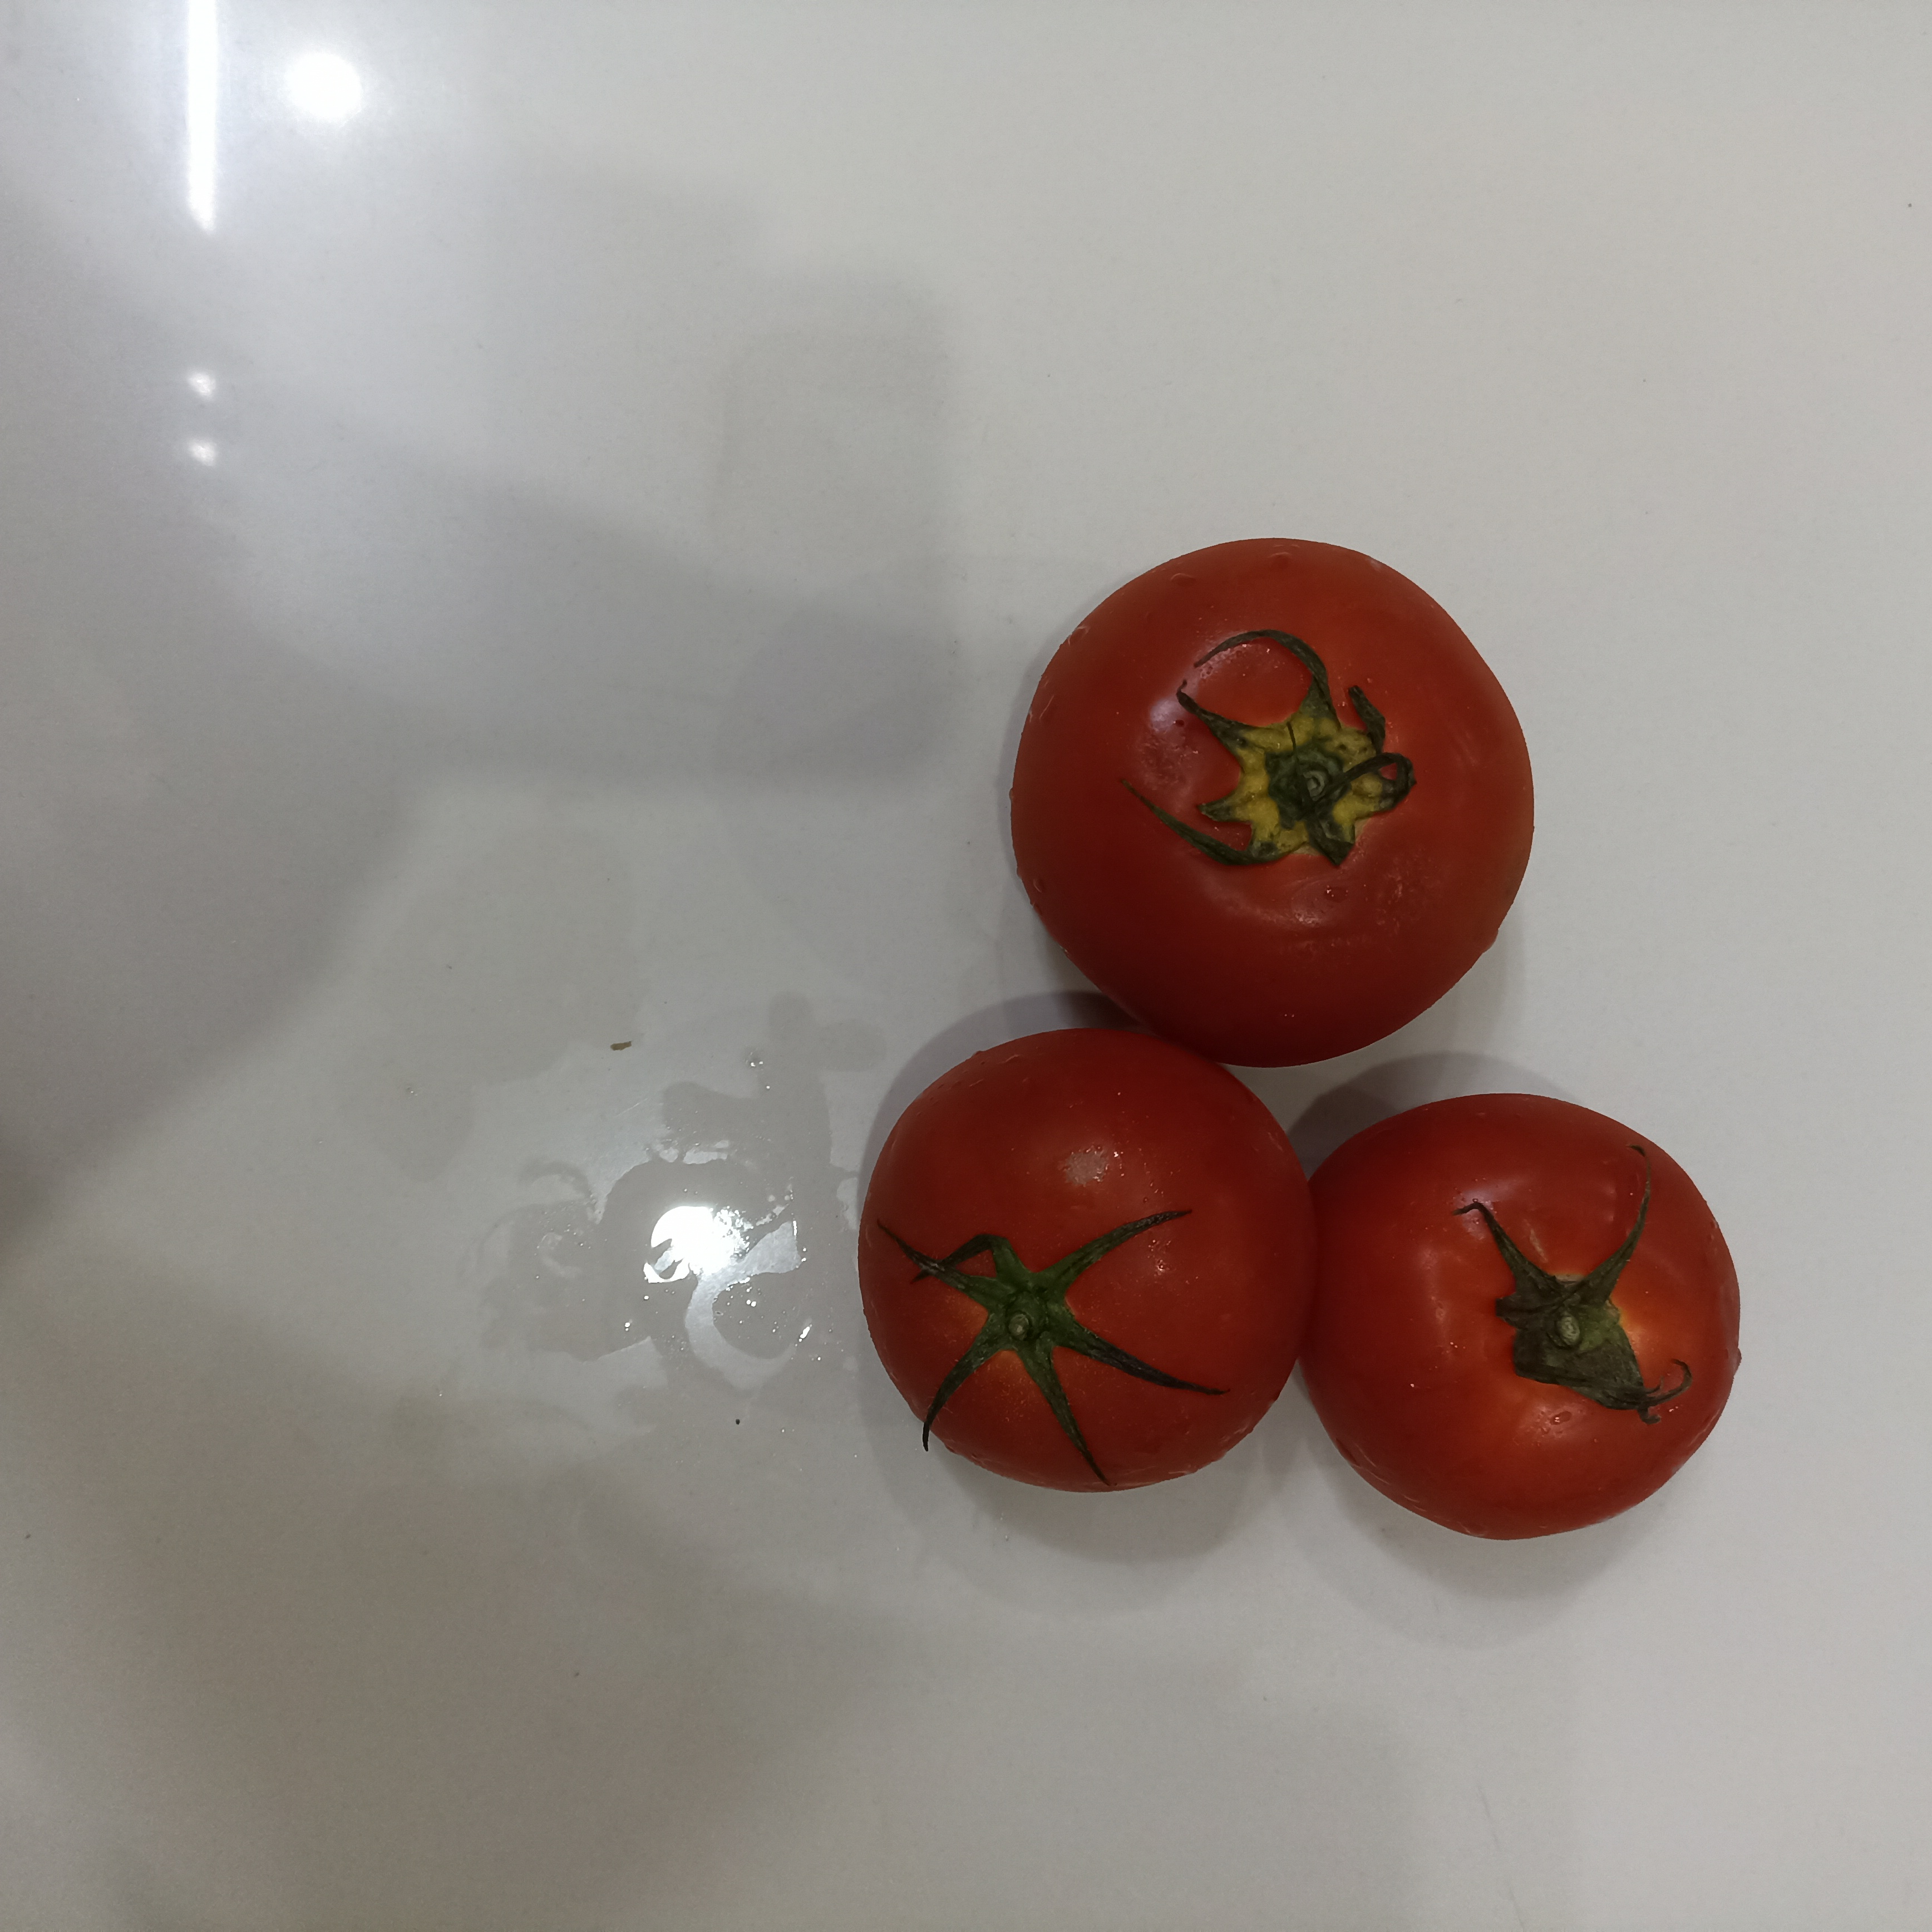Ca chua: (1011, 536, 1534, 1067), (860, 1035, 1305, 1496), (1297, 1088, 1742, 1547)
